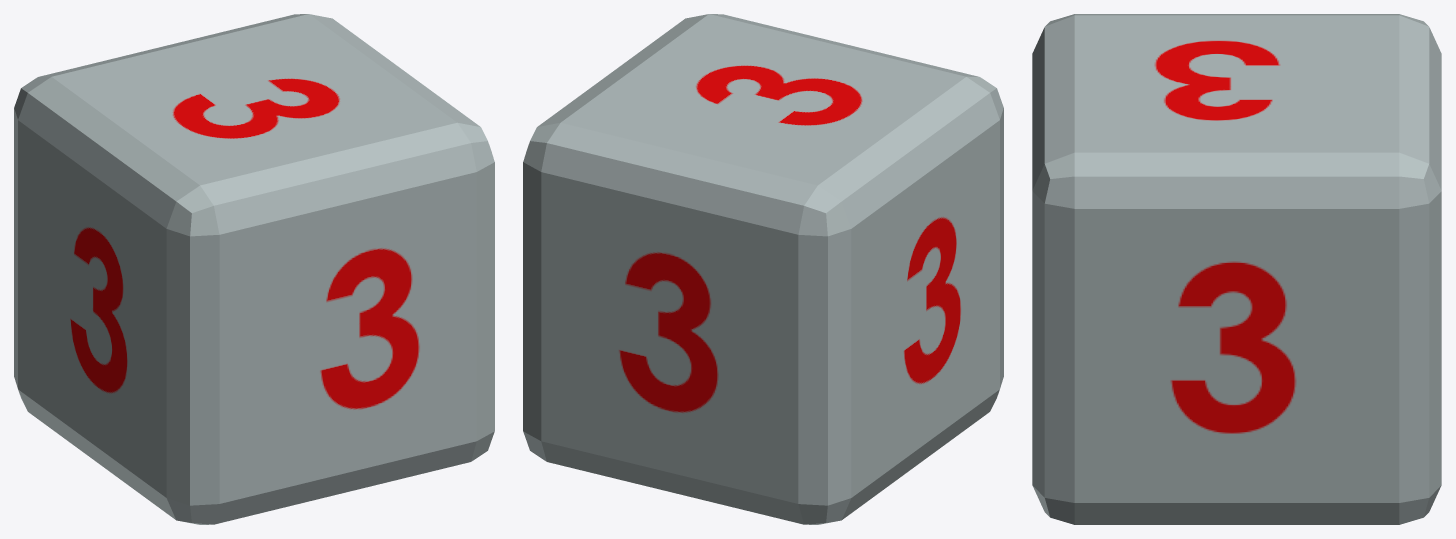
Rendered from cubeThree.glb.
The picture shows the model from 3 angles, left to right: view 1: azimuth 30°, elevation 25°; view 2: azimuth 150°, elevation 25°; view 3: azimuth 270°, elevation 25°; orthographic projection. The views are drawn at different scales.
Visible parts, largest first — view 1: Cube; view 2: Cube; view 3: Cube.
Part boxes in pixels (x1,y1,x2,y2): Cube: (14,14,494,524); Cube: (523,14,1003,524); Cube: (1032,14,1441,524).
Size of the model in its own units: 2 by 2 by 2.
1 material, 1 textured.
